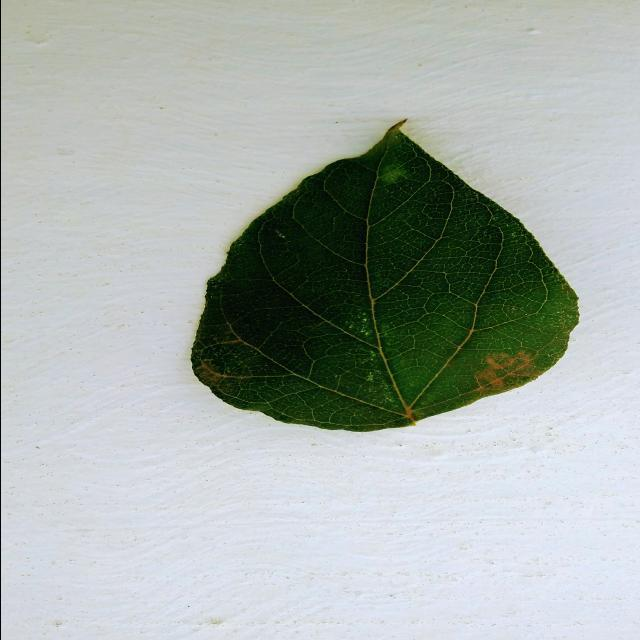leaf: (189, 117, 580, 432)
